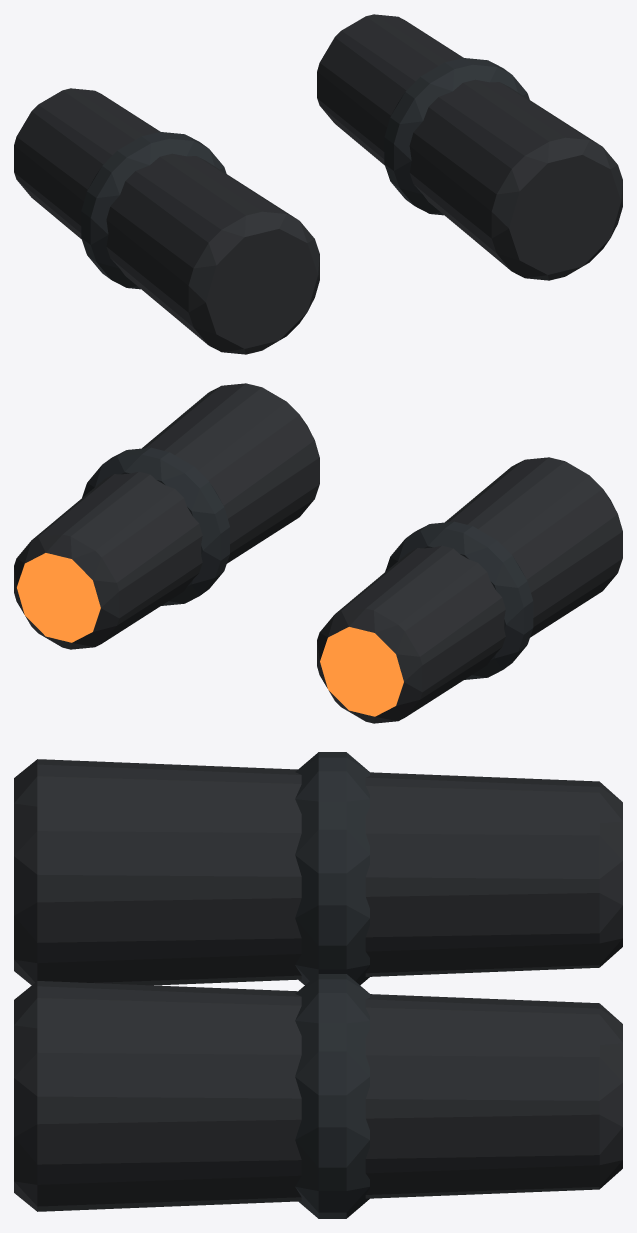
File: Engine_Standard.fbx
The picture shows the model from 3 angles, top to bottom: view 1: azimuth 30°, elevation 25°; view 2: azimuth 150°, elevation 25°; view 3: azimuth 270°, elevation 25°; orthographic projection. The views are drawn at different scales.
Visible parts, largest first — view 1: Engine_Standard; view 2: Engine_Standard; view 3: Engine_Standard.
Part boxes in pixels (box(x1,y1,x2,y2)): Engine_Standard: box(14, 14, 622, 354); Engine_Standard: box(14, 383, 622, 723); Engine_Standard: box(14, 752, 622, 1218).
Bounding box in the file's own units: 0.8175 × 0.2596 × 0.65.
